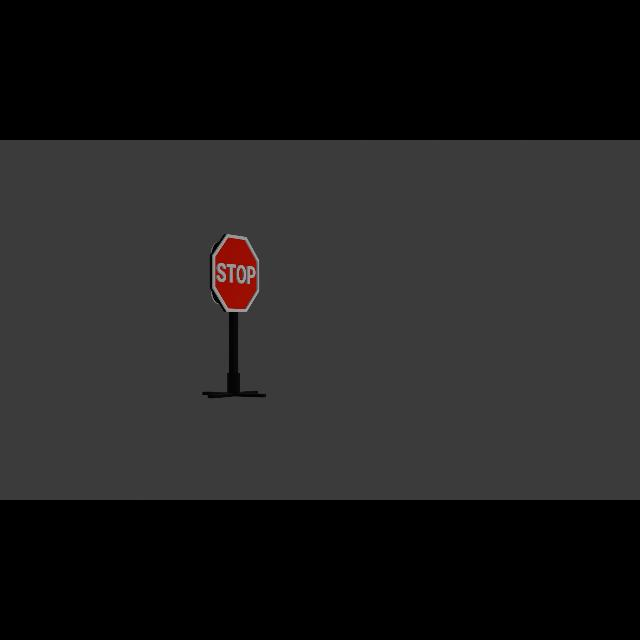sign_stop: (210, 235, 261, 314)
